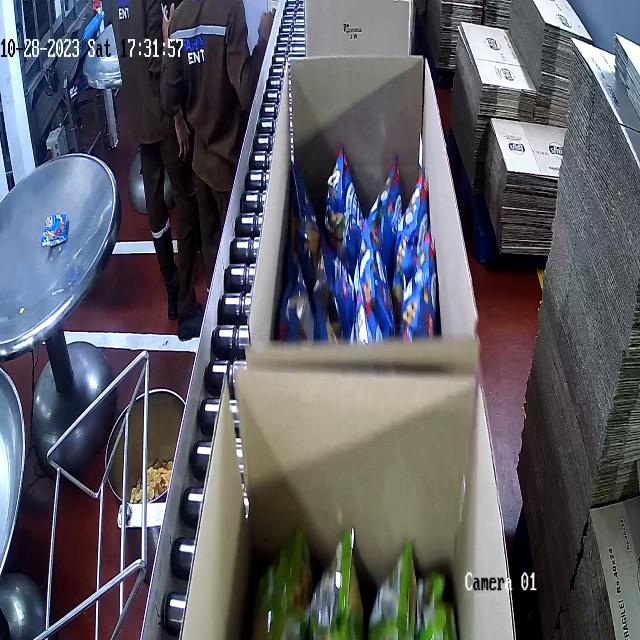PAPRIKA: (286, 135, 441, 342)
YOGURT_HERB: (246, 512, 463, 640)
